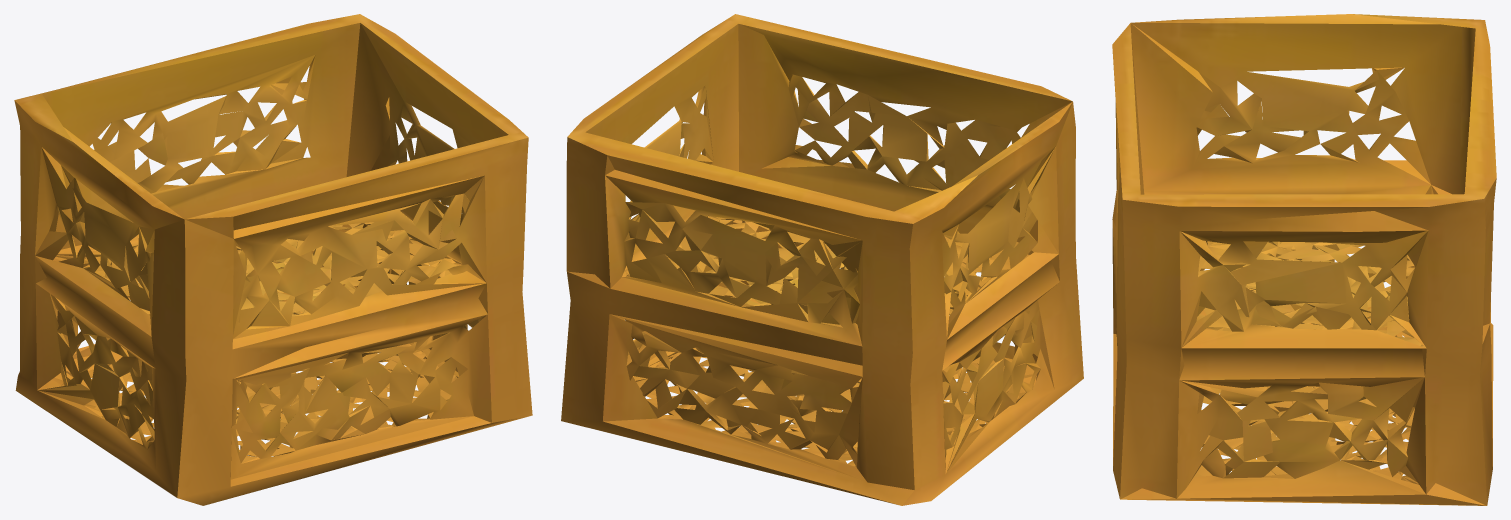
File: crates.glb
The picture shows the model from 3 angles, left to right: view 1: azimuth 30°, elevation 25°; view 2: azimuth 150°, elevation 25°; view 3: azimuth 270°, elevation 25°; orthographic projection. The views are drawn at different scales.
Visible parts, largest first — view 1: crates; view 2: crates; view 3: crates.
Boxes of the visible parts, x1=… form: crates: x1=14, y1=14, x2=532, y2=505; crates: x1=561, y1=14, x2=1083, y2=505; crates: x1=1112, y1=14, x2=1496, y2=505.
Bounding box in the file's own units: 0.8247 × 0.62 × 0.6979.
Materials: 1 (1 with a texture image).
